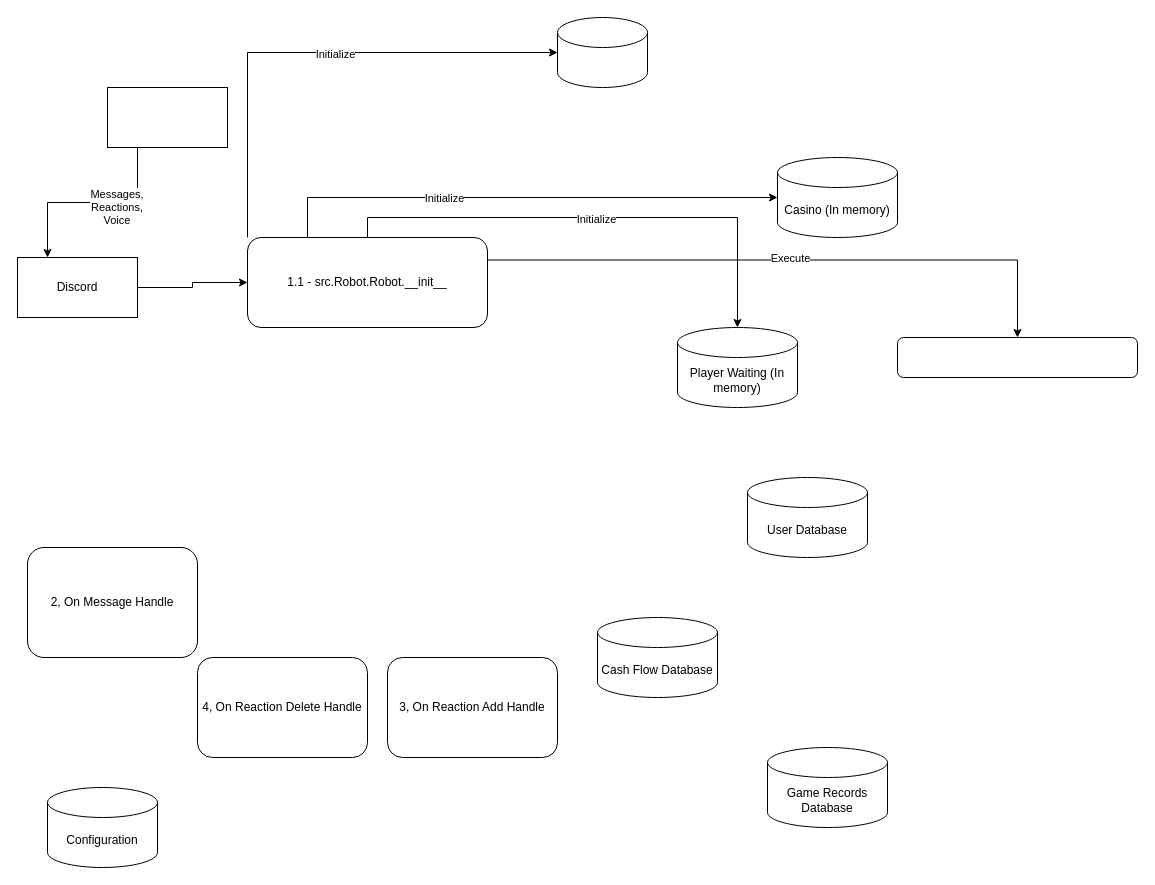
The diagram is 1155 pixels wide and 885 high, and some of its shapes have lost their labels. The shapes that lost their labels are listed below. From the top down, each one's centre as x and y in pixels, then its label:
At point 602,52: "BoostedRoles (In memory)".
At point 167,117: "User".
At point 1017,357: "1.2 - src.Robot.Robot.runPerSecond".
